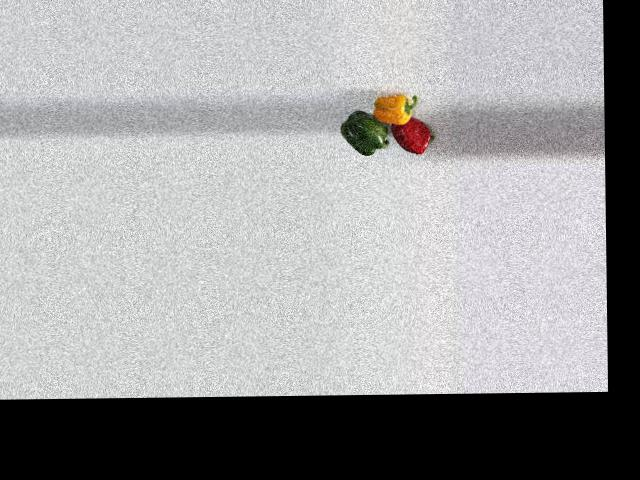bell_pepper: (372, 90, 418, 131)
